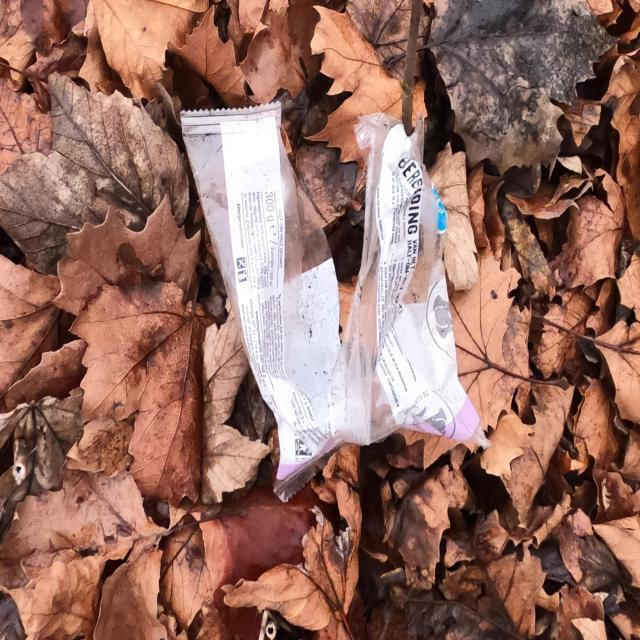Plastic: (177, 99, 490, 508)
